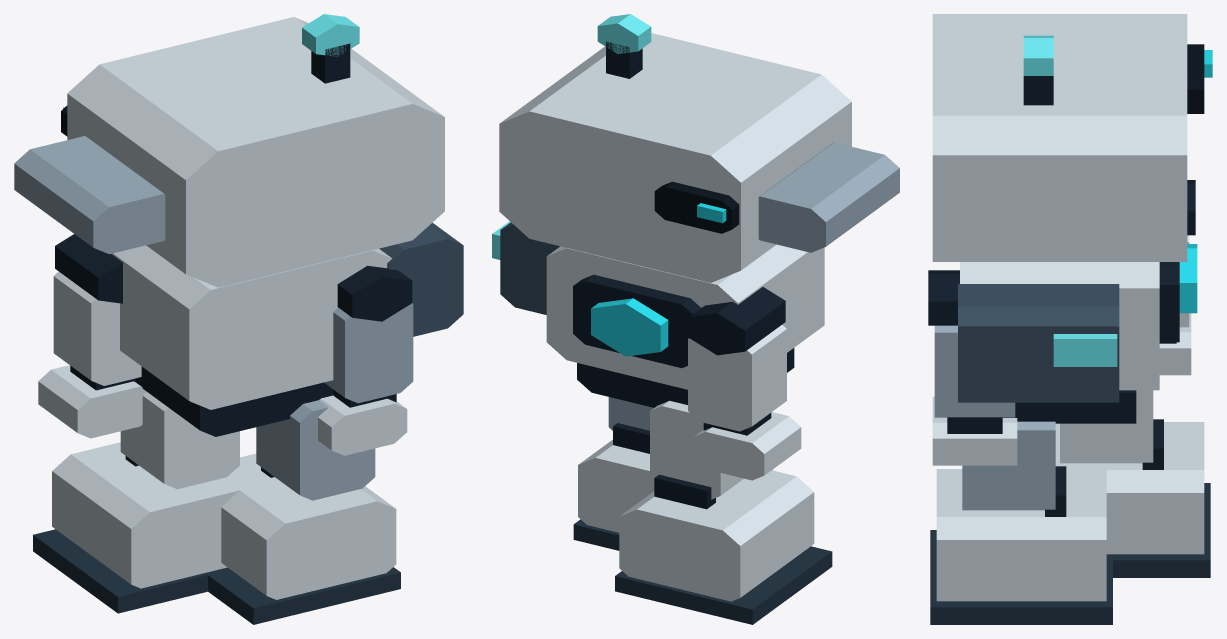
Rendered from prism_runner.obj.
3 renders of one model, left to right at view 1: azimuth 30°, elevation 25°; view 2: azimuth 150°, elevation 25°; view 3: azimuth 270°, elevation 25°, orthographic. The views are drawn at different scales.
Visible parts, largest first — view 1: PrismRunner; view 2: PrismRunner; view 3: PrismRunner.
Boxes of the visible parts, <box> form: PrismRunner: <box>14,14,463,624</box>; PrismRunner: <box>492,14,899,624</box>; PrismRunner: <box>928,14,1212,624</box>.
Bounding box in the file's own units: 0.6605 × 0.914 × 0.4087.
Materials: 1 (1 with a texture image).
